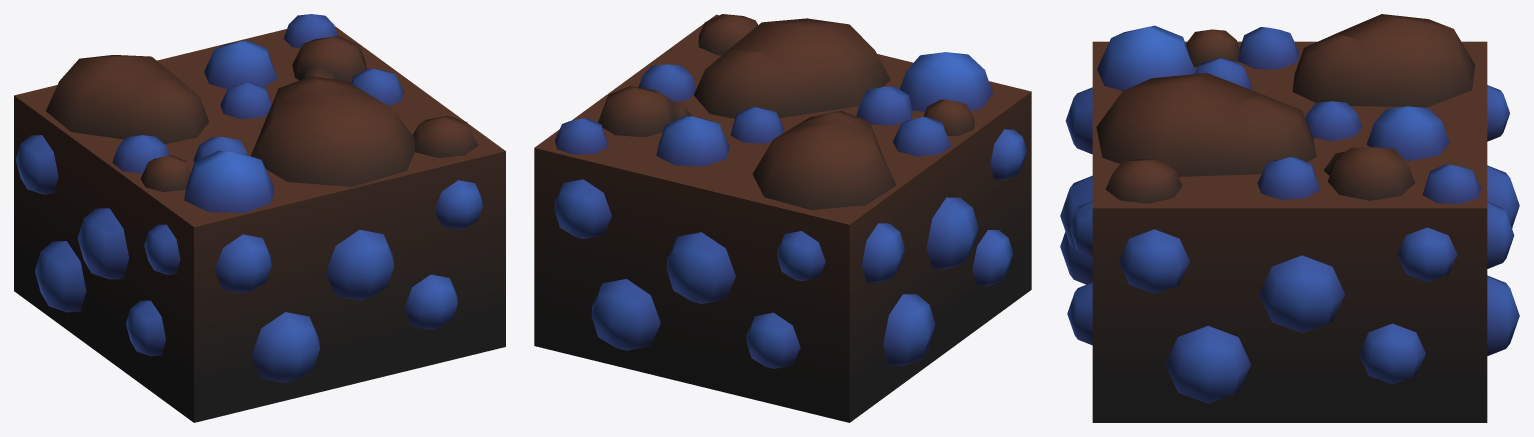
File: m_SheetCake01_Slice03.fbx
3 views of the same model, side by side, from view 1: azimuth 30°, elevation 25°; view 2: azimuth 150°, elevation 25°; view 3: azimuth 270°, elevation 25° (orthographic). The views are drawn at different scales.
Visible parts, largest first — view 1: m_SheetCake01_Slice03; view 2: m_SheetCake01_Slice03; view 3: m_SheetCake01_Slice03.
Part boxes in pixels (x1=…): m_SheetCake01_Slice03: x1=14, y1=14, x2=505, y2=422; m_SheetCake01_Slice03: x1=534, y1=14, x2=1031, y2=422; m_SheetCake01_Slice03: x1=1060, y1=14, x2=1519, y2=422.
Bounding box in the file's own units: 11.65 × 7.57 × 11.65.
